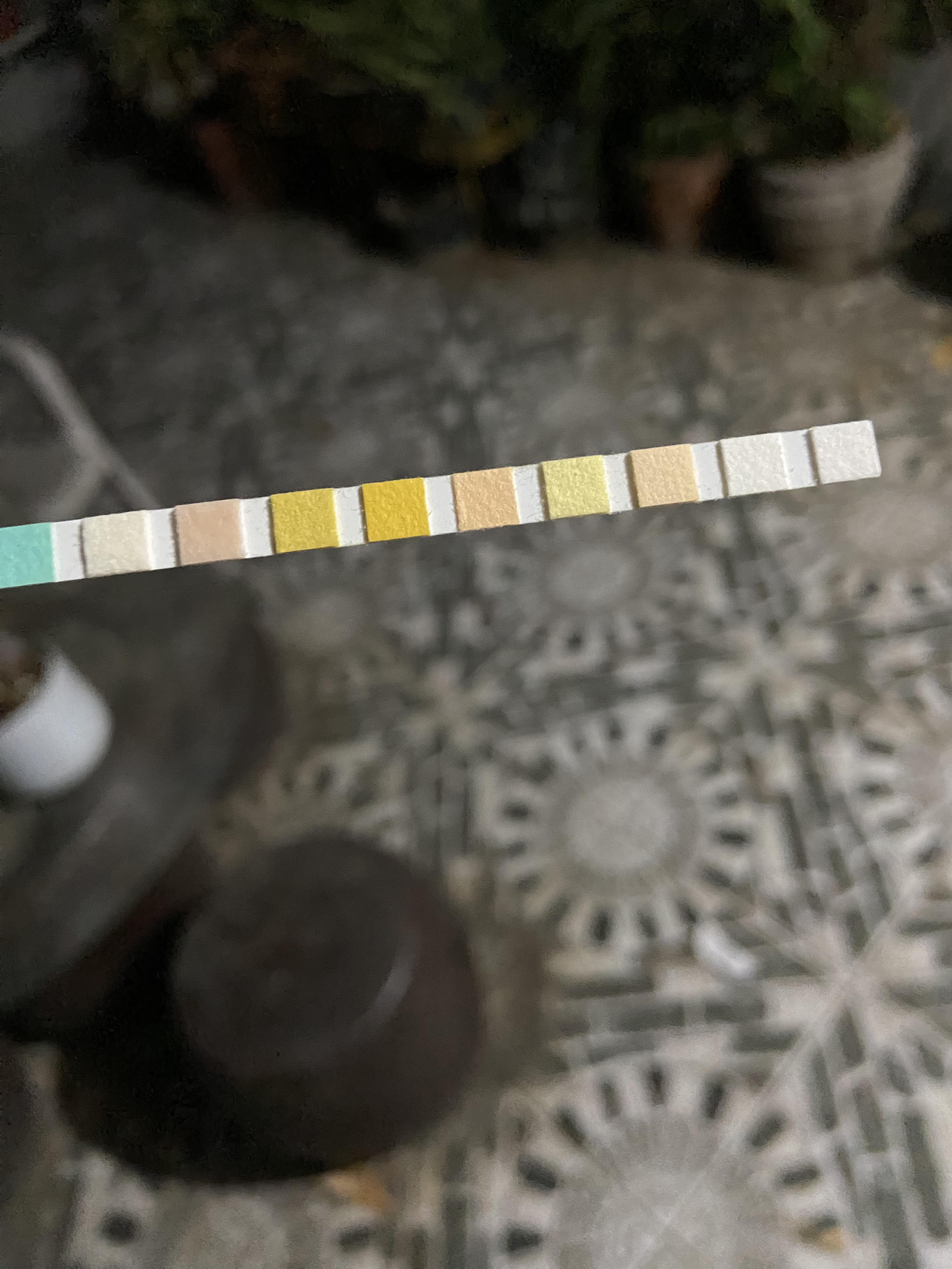Bilirubin: (88, 518, 145, 571)
Blood: (368, 485, 425, 536)
Glucose: (2, 529, 51, 583)
Ketone: (181, 506, 239, 558)
Leukocytes: (821, 428, 872, 477)
Nitrite: (729, 439, 780, 491)
Protein: (552, 461, 602, 512)
SpGravity: (278, 495, 333, 547)
Urobilinogen: (639, 450, 690, 501)
pH: (459, 472, 513, 526)
strip: (2, 419, 883, 593)
